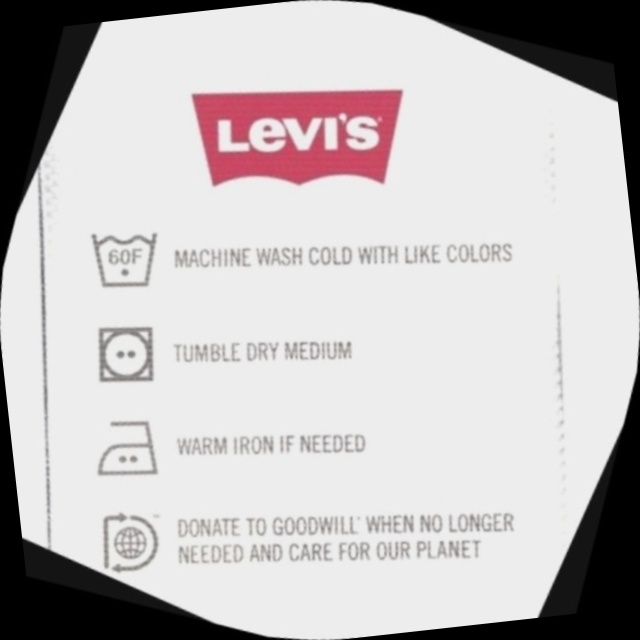30C: (47, 177, 203, 334)
iron_medium: (54, 371, 210, 528)
tumble_dry_medium: (52, 277, 206, 430)
